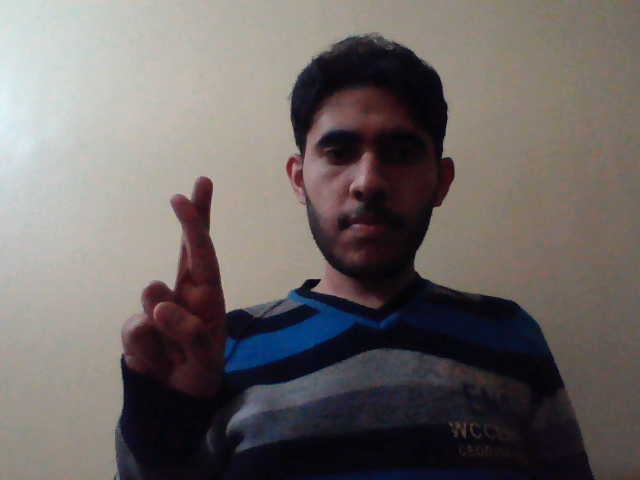R: (113, 170, 237, 409)
